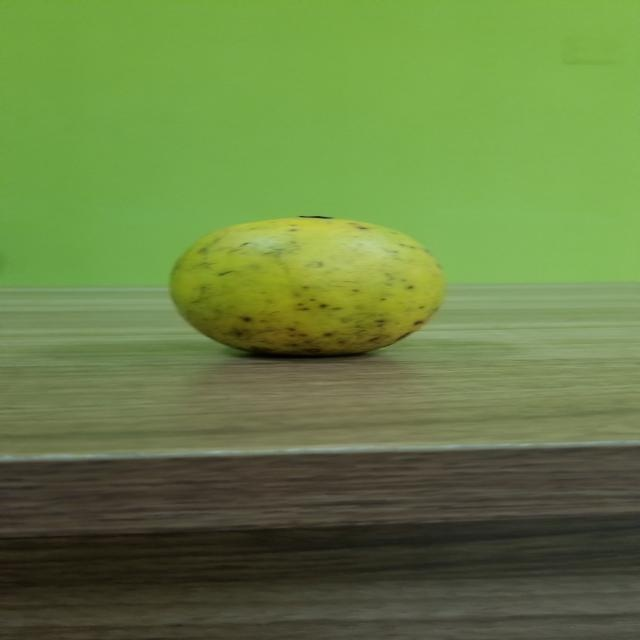agrume: (157, 205, 441, 360)
